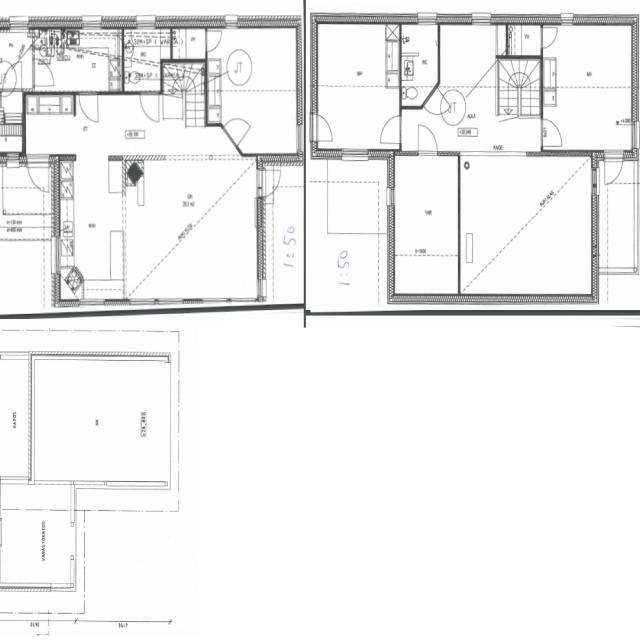door: (423, 85, 451, 126), (223, 107, 251, 147), (27, 154, 49, 198), (256, 170, 284, 197), (311, 113, 338, 141), (605, 150, 624, 187), (540, 118, 564, 146), (32, 58, 54, 86), (79, 90, 98, 122), (140, 90, 159, 122), (419, 124, 438, 156), (380, 116, 402, 143), (3, 61, 21, 93), (540, 27, 559, 48), (205, 30, 222, 51)
